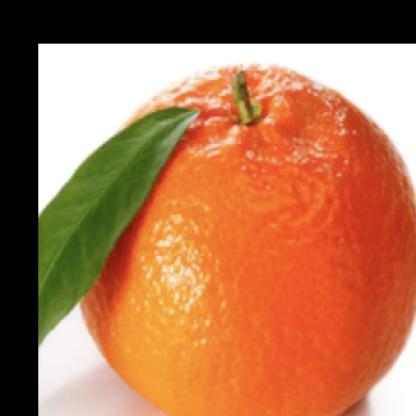fresh: (76, 62, 416, 416)
